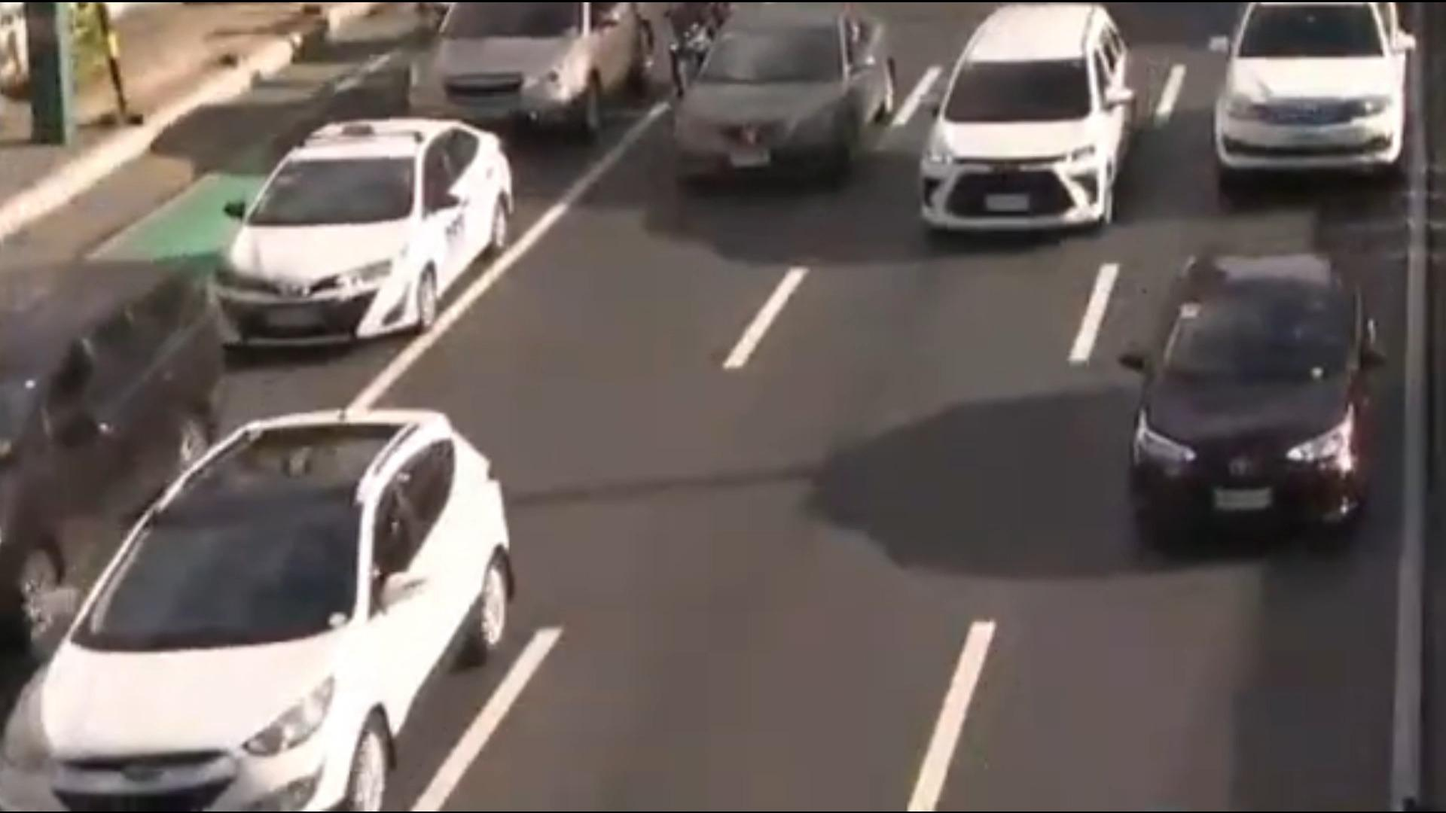SUV: (12, 381, 548, 813), (0, 249, 230, 664), (906, 0, 1160, 270), (1191, 0, 1422, 220)
Sedan: (1138, 217, 1407, 604), (215, 96, 546, 365), (662, 0, 915, 221)
